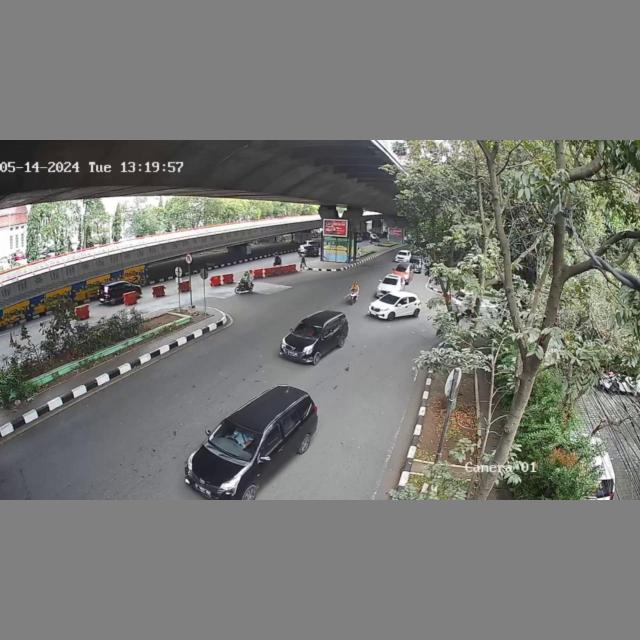windshield: (210, 418, 264, 462), (292, 321, 324, 338)
